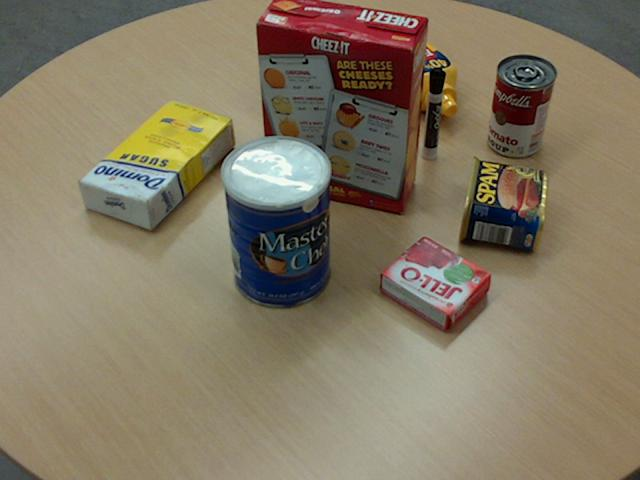cracker_box: (254, 0, 427, 212)
gelatin_box: (379, 235, 492, 330)
large_marker: (421, 67, 445, 158)
master_chef_can: (220, 135, 330, 308)
mug: (268, 34, 344, 126)
mustard_bottle: (350, 15, 457, 116)
potted_meat_can: (457, 155, 546, 249)
sugar_box: (77, 98, 233, 229)
tomato_soup_can: (487, 54, 556, 157)
tuna_fish_can: (278, 22, 340, 76)
